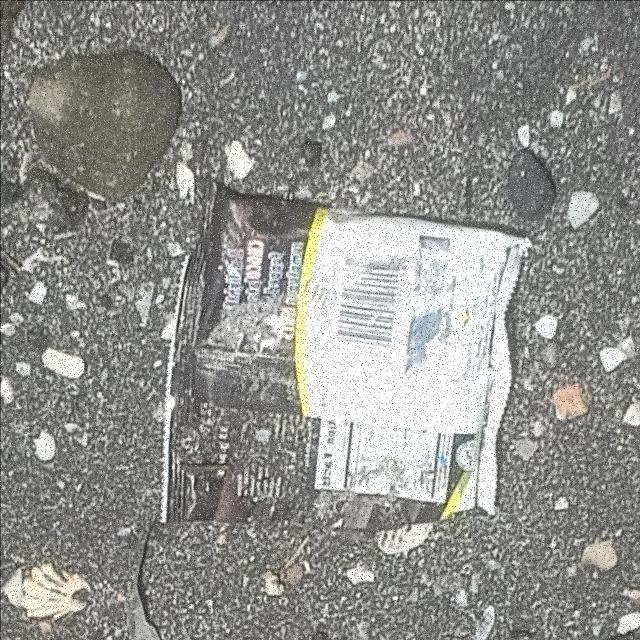plastic_waste: (157, 177, 537, 535)
